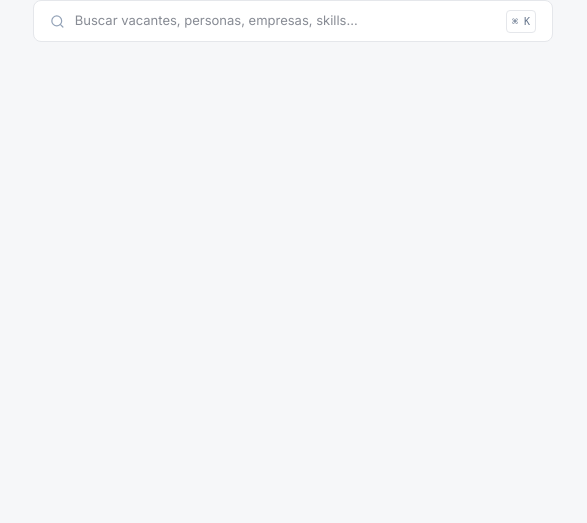
SearchBox › closes with Escape
Type "back" into the dropdown at (285, 21), box x1=75 y1=11 x2=496 y2=31
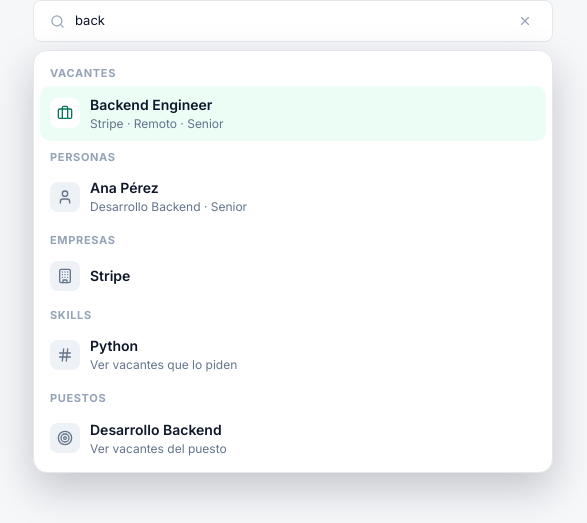
Now the text "Backend Engineer" is shown, box x1=90 y1=94 x2=224 y2=114
Press Escape in the dropdown, box x1=75 y1=11 x2=504 y2=31
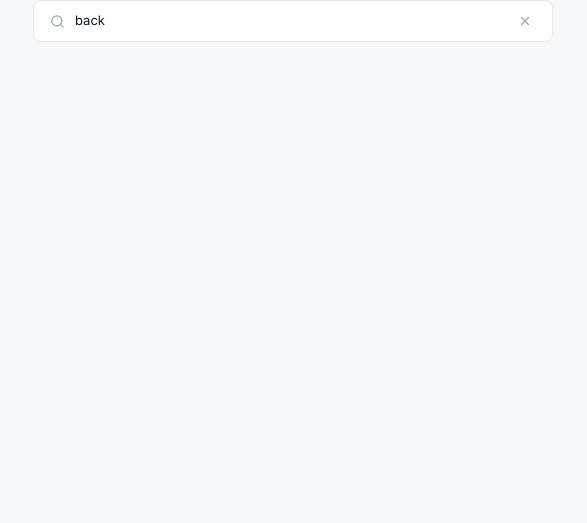
Now the option "Backend Engineer" is gone
